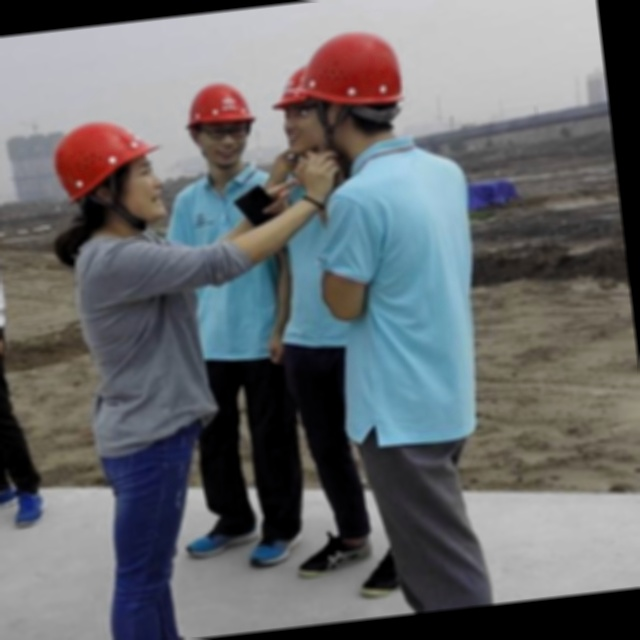Con_Casco: (297, 30, 407, 145), (54, 119, 168, 228)
